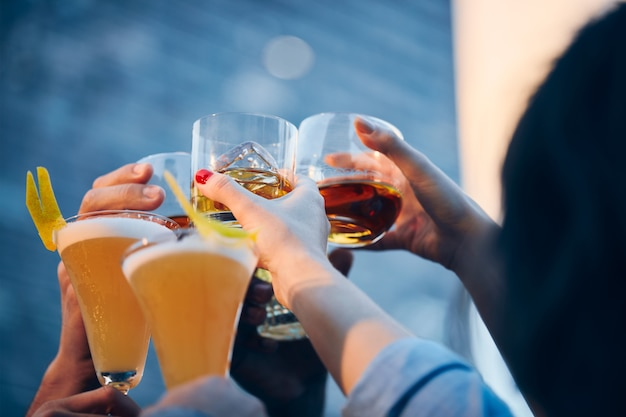alcohol: (24, 165, 182, 417), (121, 228, 260, 412), (289, 110, 407, 247), (189, 110, 301, 228), (115, 151, 211, 239)
